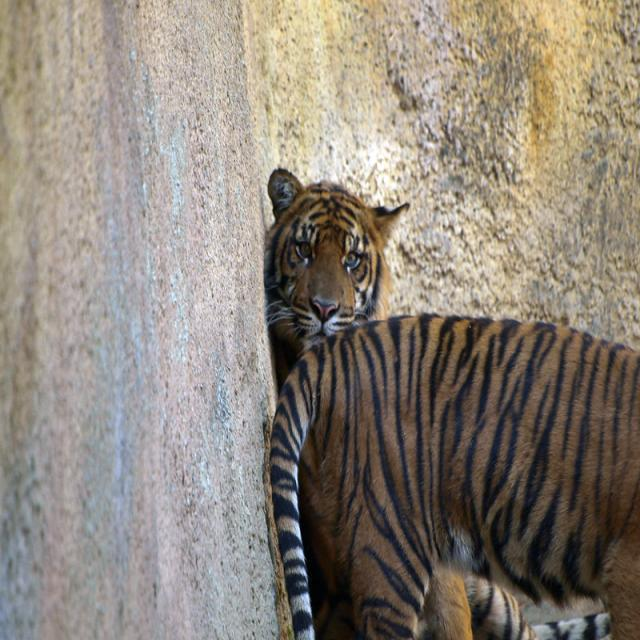Tiger: (262, 167, 538, 639), (269, 316, 639, 639)
